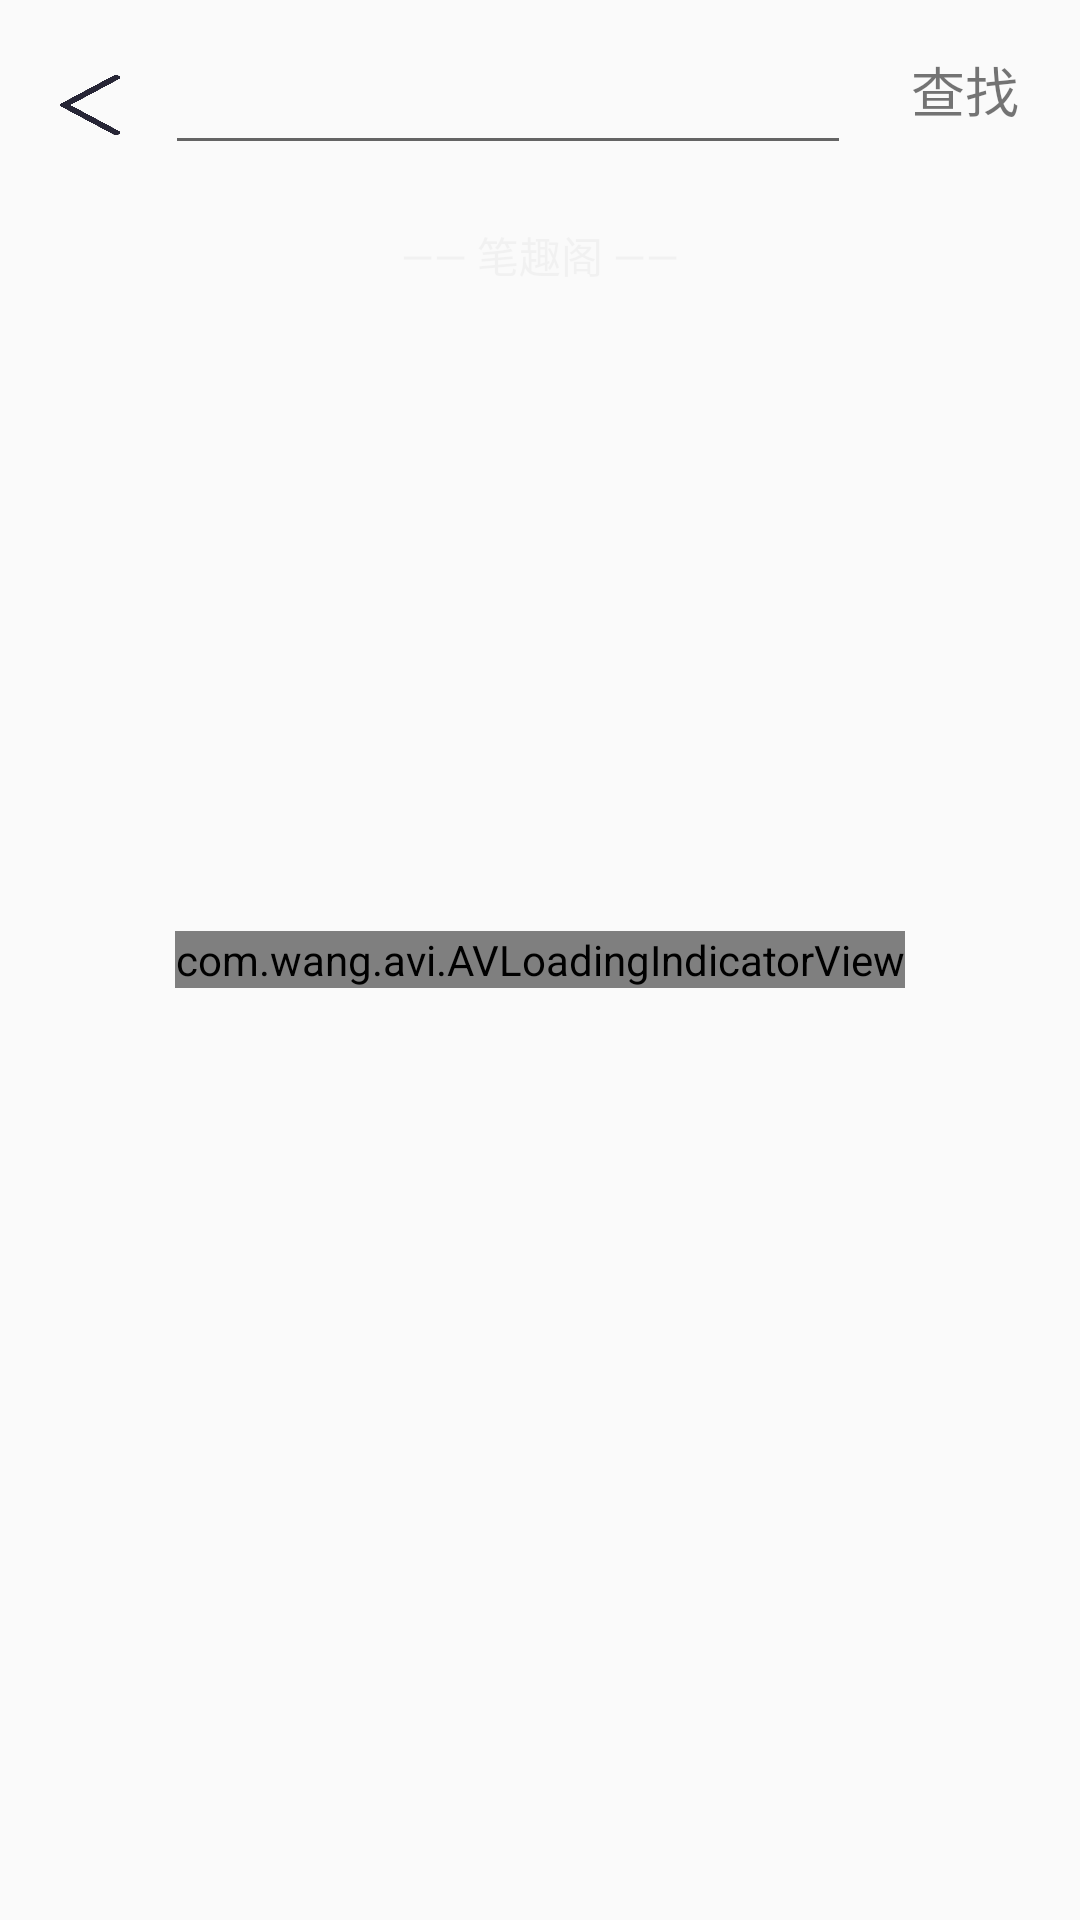

Locate icon controls on the screen. Image size 1080 x 1920, boxes as [x1=x1, y1=y1, x2=x2, y2=y2].
back: [x1=60, y1=75, x2=120, y2=135]
